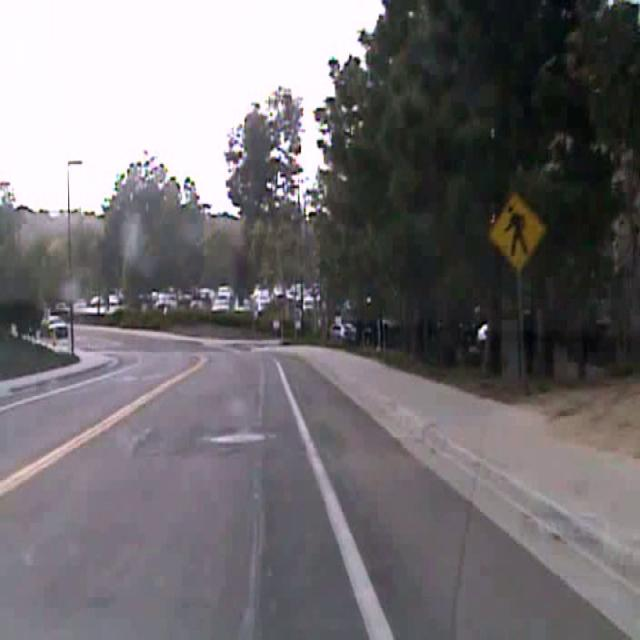pedestrianCrossing: (488, 189, 546, 272)
